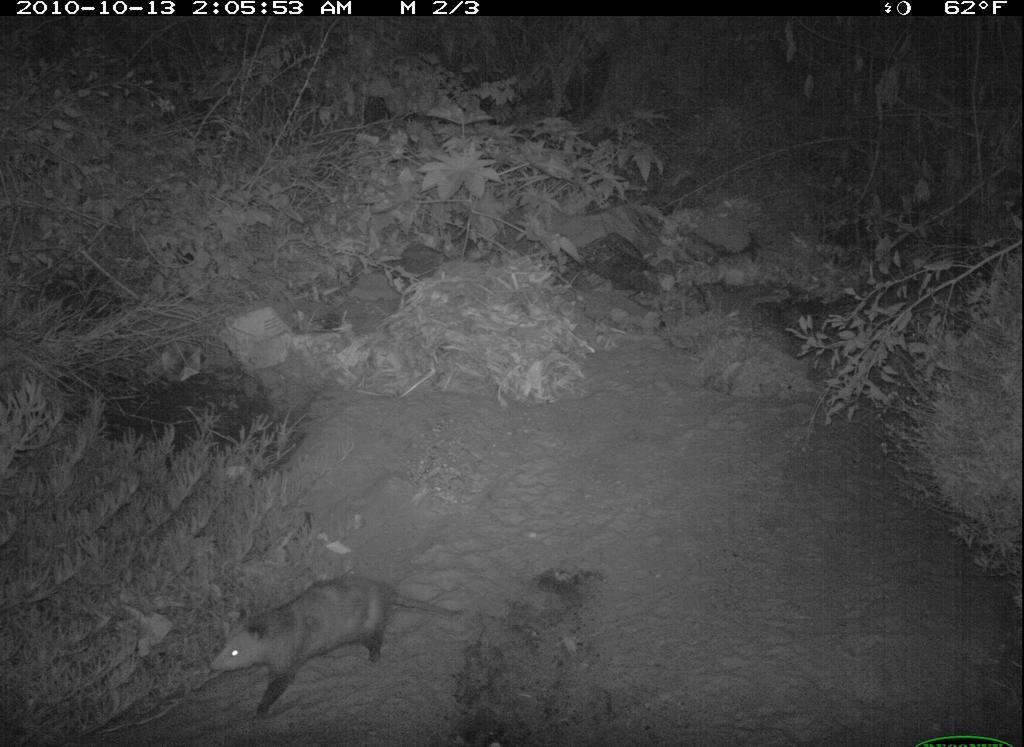opossum: (209, 570, 456, 719)
